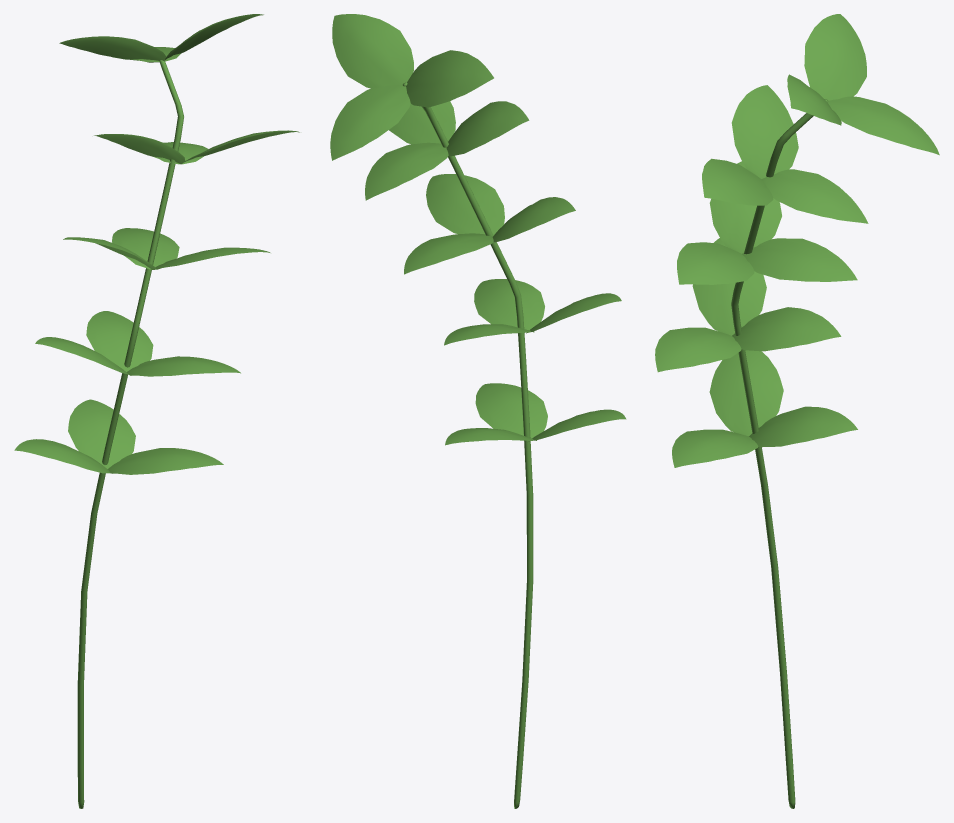
The model's file is mint_variant1.fbx.
The picture shows the model from 3 angles, left to right: view 1: azimuth 30°, elevation 25°; view 2: azimuth 150°, elevation 25°; view 3: azimuth 270°, elevation 25°; orthographic projection. The views are drawn at different scales.
Parts seen in each view (by area): view 1: Plane.007, Plane.006, Plane.008, Curve.001; view 2: Plane.006, Plane.007, Plane.008, Curve.001; view 3: Plane.008, Plane.007, Plane.006, Curve.001.
Part boxes in pixels (left/top/right/bottom): Plane.007: left=68, top=47, right=207, bottom=468; Plane.006: left=108, top=14, right=299, bottom=474; Plane.008: left=14, top=36, right=185, bottom=473; Curve.001: left=77, top=60, right=183, bottom=808; Plane.006: left=332, top=14, right=547, bottom=438; Plane.007: left=330, top=85, right=536, bottom=445; Plane.008: left=406, top=50, right=626, bottom=441; Curve.001: left=403, top=82, right=533, bottom=808; Plane.008: left=692, top=14, right=866, bottom=436; Plane.007: left=732, top=96, right=939, bottom=447; Plane.006: left=655, top=74, right=841, bottom=467; Curve.001: left=731, top=99, right=827, bottom=808.
Size of the model in its own units: 27.01 by 71.8 by 23.12.
